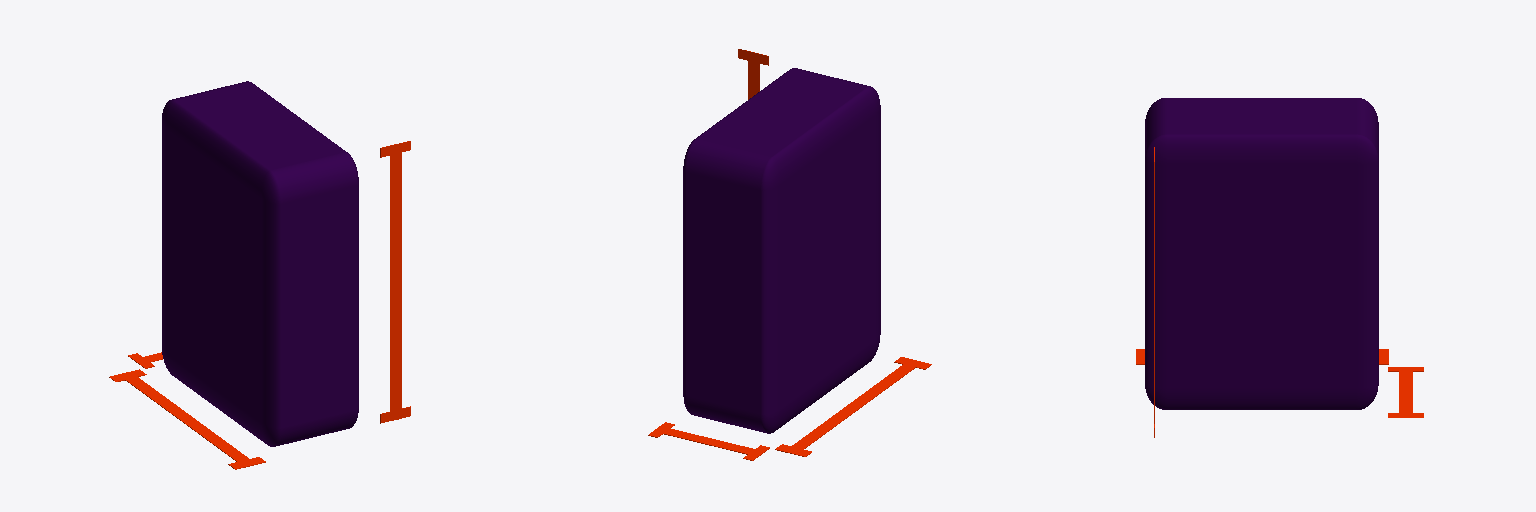
File: personalItem.obj
The picture shows the model from 3 angles: view 1: azimuth 30°, elevation 25°; view 2: azimuth 150°, elevation 25°; view 3: azimuth 270°, elevation 25°; orthographic projection.
Visible parts, largest first — view 1: Cube_Cube.001, ruler_z_Plane.002, ruler_y_Plane.007; view 2: Cube_Cube.001, ruler_y_Plane.007, ruler_x_Plane.005, ruler_z_Plane.002; view 3: Cube_Cube.001, ruler_x_Plane.005.
Boxes of the visible parts, <box> form: Cube_Cube.001: <box>162,81,358,446</box>; ruler_z_Plane.002: <box>380,141,410,423</box>; ruler_y_Plane.007: <box>109,369,265,469</box>; Cube_Cube.001: <box>683,68,880,433</box>; ruler_y_Plane.007: <box>775,357,931,456</box>; ruler_x_Plane.005: <box>648,422,769,460</box>; ruler_z_Plane.002: <box>738,49,768,99</box>; Cube_Cube.001: <box>1145,98,1378,409</box>; ruler_x_Plane.005: <box>1388,367,1423,417</box>.
Bounding box in the file's own units: 0.3013 × 0.4331 × 0.4058.